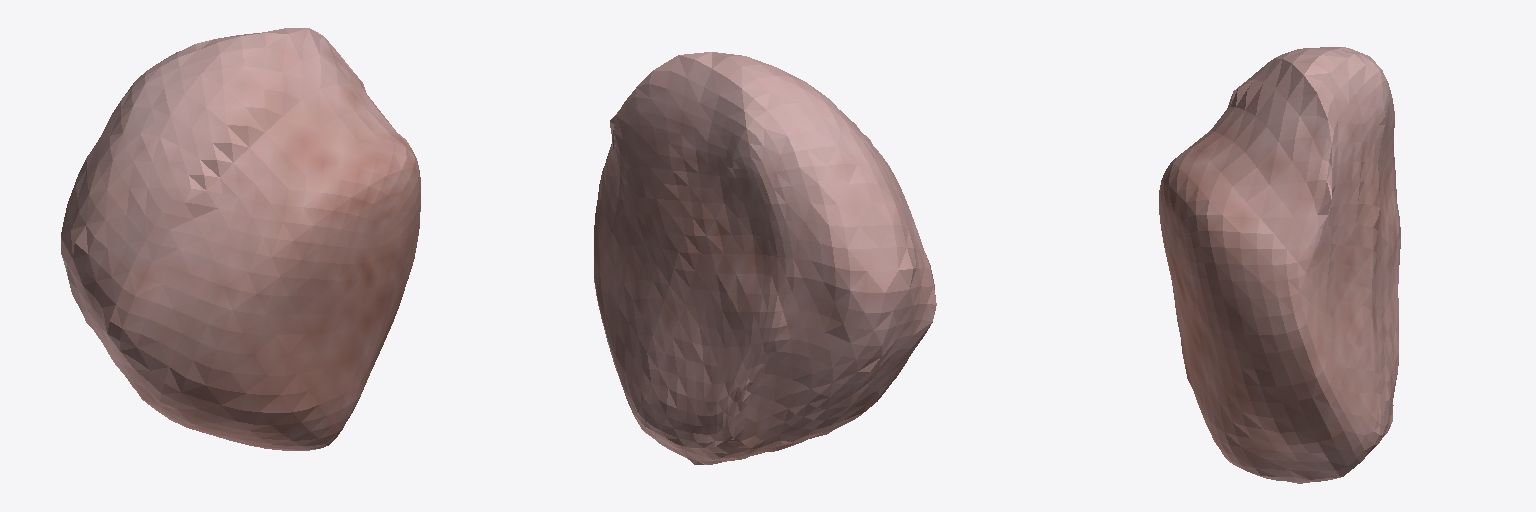
3 views of the same model, side by side, from view 1: azimuth 30°, elevation 25°; view 2: azimuth 150°, elevation 25°; view 3: azimuth 270°, elevation 25° (orthographic).
Visible parts, largest first — view 1: left_patella; view 2: left_patella; view 3: left_patella.
Part boxes in pixels (x1,y1,x2,y2): left_patella: (61,28,420,450); left_patella: (594,52,936,464); left_patella: (1159,47,1400,483).
Bounding box in the file's own units: 0.4042 × 0.4854 × 0.2596.
1 materials, 1 textured.